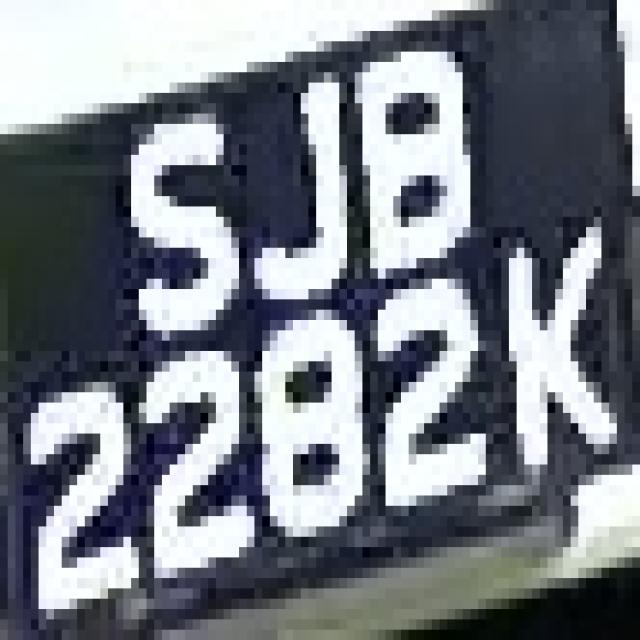2: (362, 268, 502, 537), (124, 320, 262, 578), (23, 361, 139, 630)
8: (247, 268, 370, 558)
B: (339, 10, 494, 279)
J: (216, 21, 385, 299)
K: (470, 206, 632, 464)
S: (123, 82, 239, 340)
